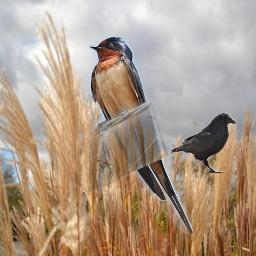Crow: (170, 112, 236, 173)
Swallow: (89, 35, 193, 234)
